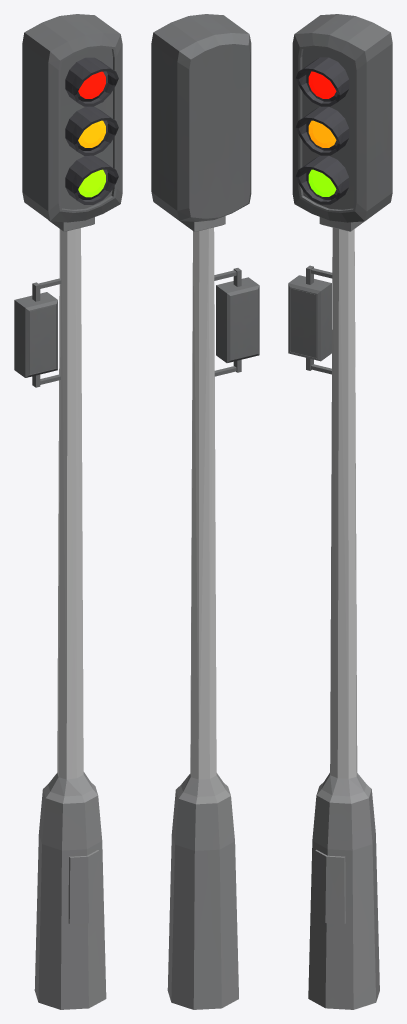
File: traffic_light_2.dae
3 views of the same model, side by side, from view 1: azimuth 30°, elevation 25°; view 2: azimuth 210°, elevation 25°; view 3: azimuth 330°, elevation 25° (orthographic).
Visible parts, largest first — view 1: pole_2, traffic_light_2, thingy_2, green_2, red_2, orange_2; view 2: pole_2, traffic_light_2, thingy_2; view 3: pole_2, traffic_light_2, thingy_2, red_2, green_2, orange_2.
Part boxes in pixels (x1=…): pole_2: x1=34, y1=217, x2=106, y2=1009; traffic_light_2: x1=22, y1=14, x2=122, y2=222; thingy_2: x1=14, y1=278, x2=61, y2=387; green_2: x1=78, y1=169, x2=105, y2=197; red_2: x1=78, y1=71, x2=105, y2=98; orange_2: x1=78, y1=120, x2=105, y2=147; pole_2: x1=167, y1=216, x2=238, y2=1009; traffic_light_2: x1=151, y1=14, x2=251, y2=221; thingy_2: x1=214, y1=268, x2=259, y2=376; pole_2: x1=308, y1=217, x2=379, y2=1009; traffic_light_2: x1=292, y1=14, x2=392, y2=222; thingy_2: x1=288, y1=265, x2=332, y2=374; red_2: x1=308, y1=71, x2=336, y2=98; green_2: x1=308, y1=169, x2=336, y2=196; orange_2: x1=308, y1=120, x2=336, y2=147.
Bounding box in the file's own units: 0.6048 × 0.5881 × 6.38.
4 materials, 1 textured.
